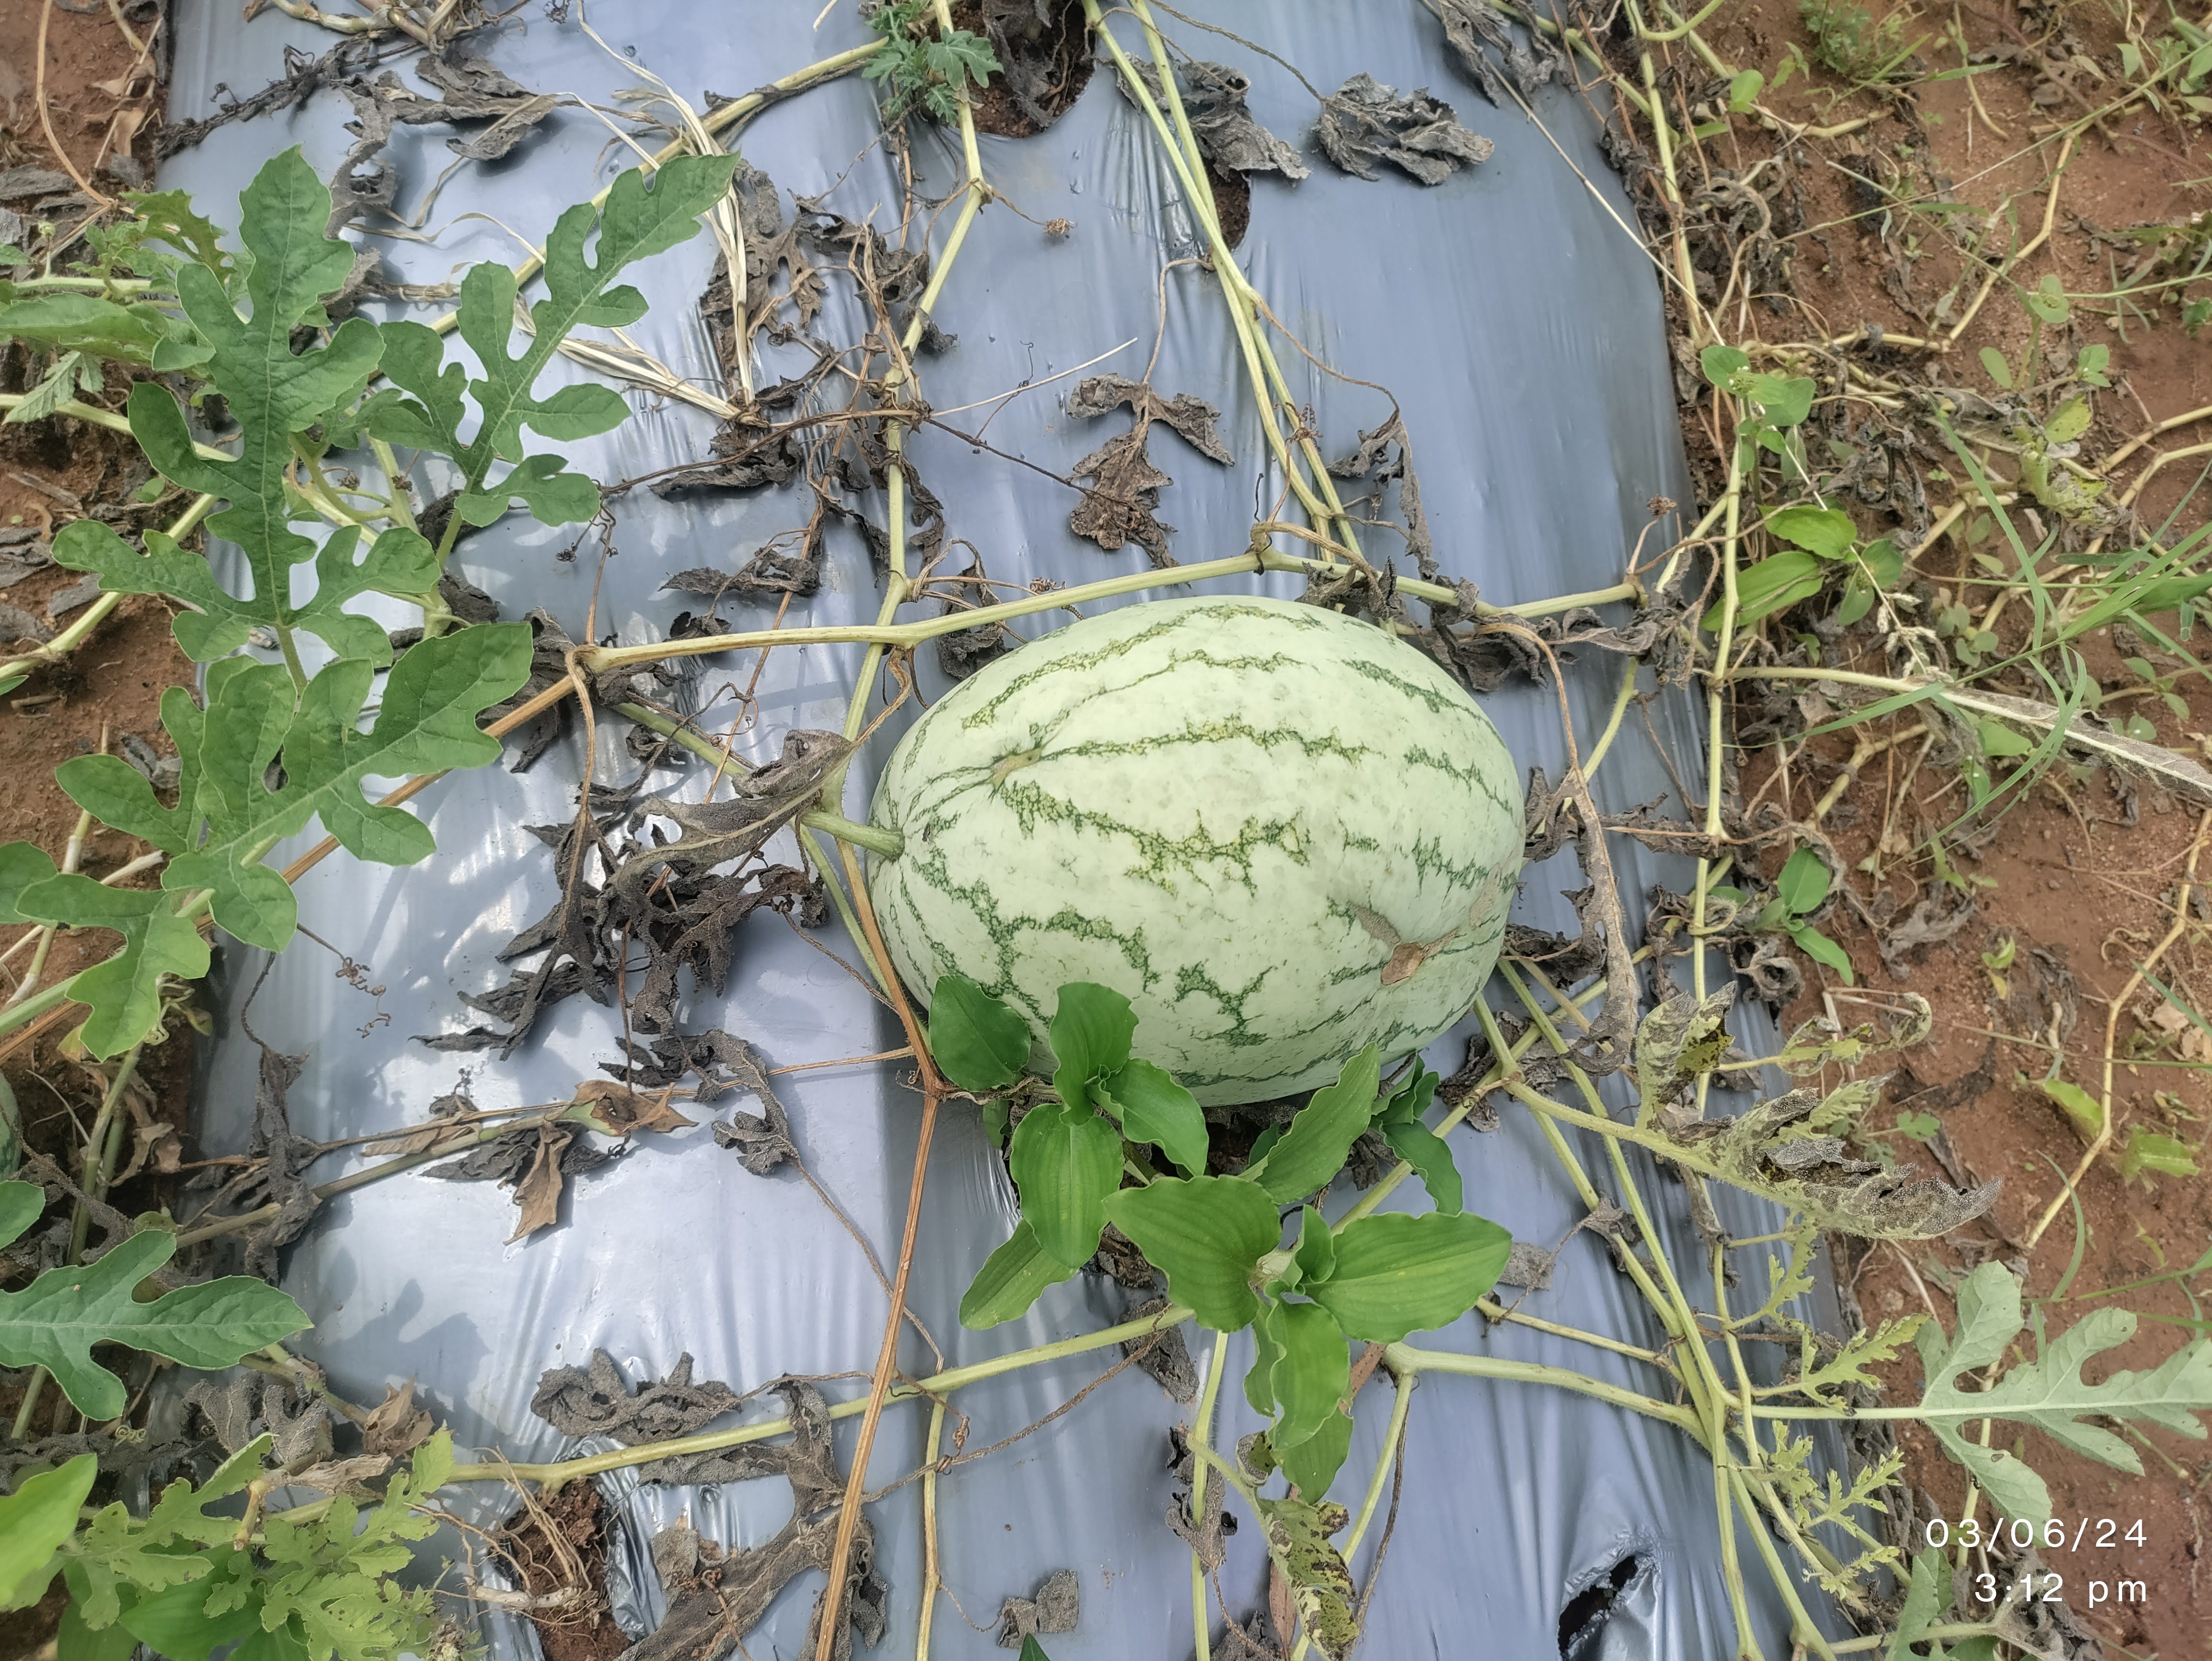not-good-to-harvest: (825, 572, 1577, 1157)
